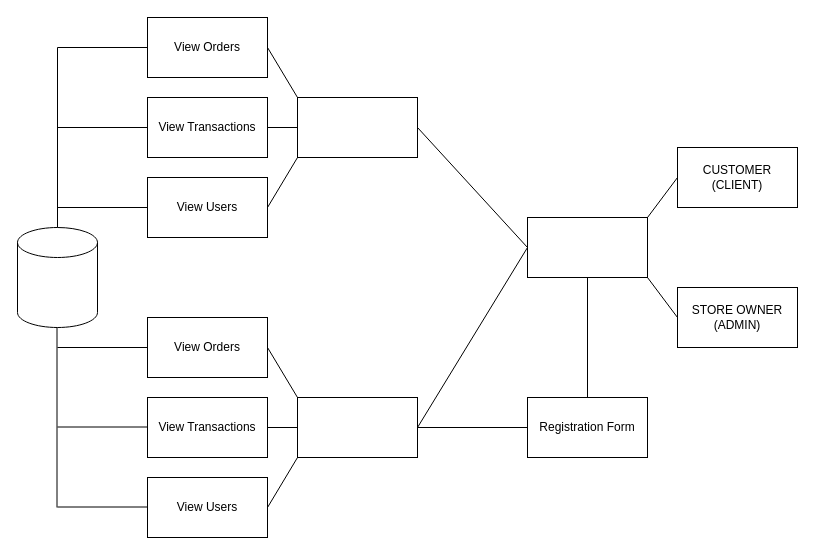
Image size: 815x555. Some labels were removed from this diagram. The shapes that lost their labels are listed below. From the top down, each one's centre as x and y in pixels, then its label:
the point at 357,127: Admin Dashboard
the point at 587,247: Authentication (Login Form)
the point at 57,277: DATABASE (MySQL)
the point at 357,427: User Dashboard
